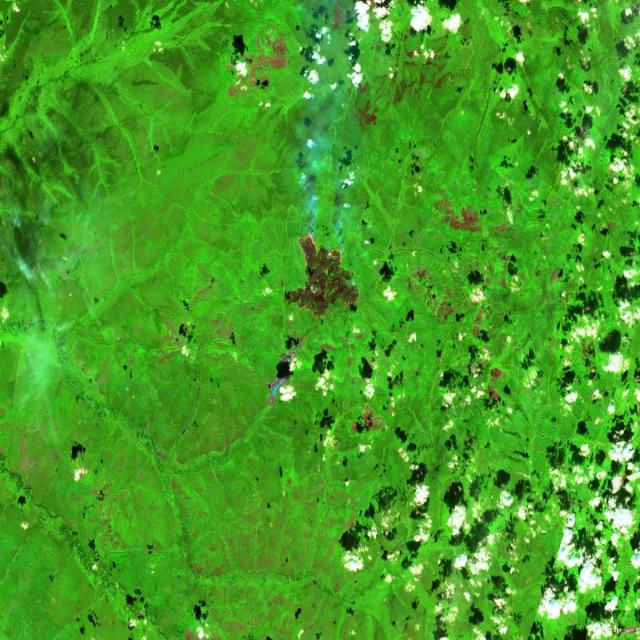fire: (288, 232, 366, 318)
